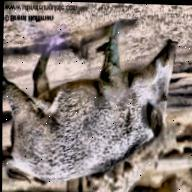boar: (6, 15, 188, 187)
